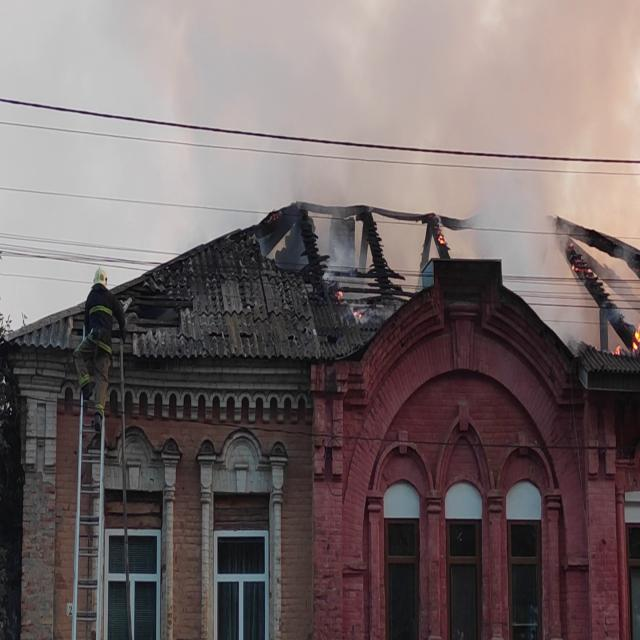fire: (630, 315, 640, 357)
smoke: (200, 68, 302, 186), (487, 192, 553, 296)
